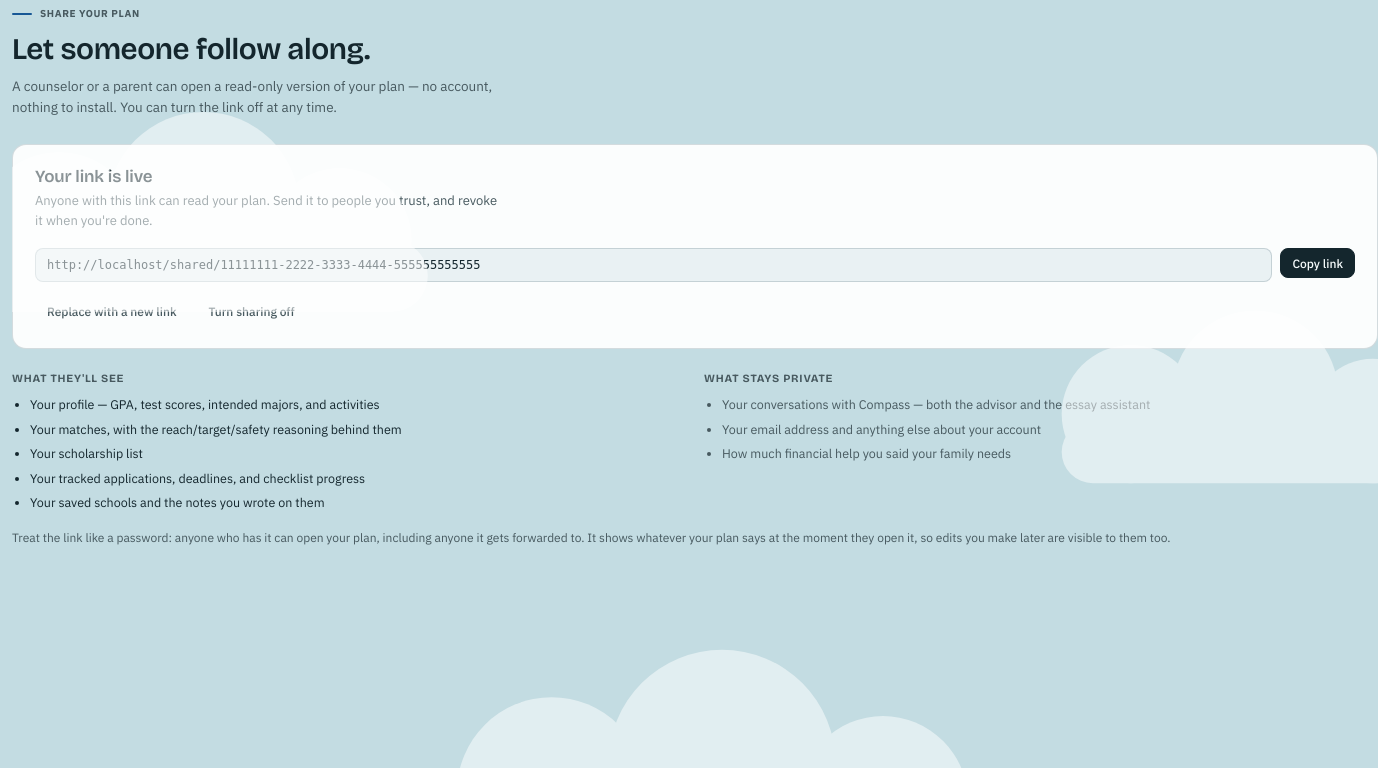
Test: when a link exists › copies to the clipboard and confirms in a live region
What coordinates should you click on to do the following:
click the button "Copy link"
I would click on:
 (1318, 263)
Its box is [1280,248,1355,278].
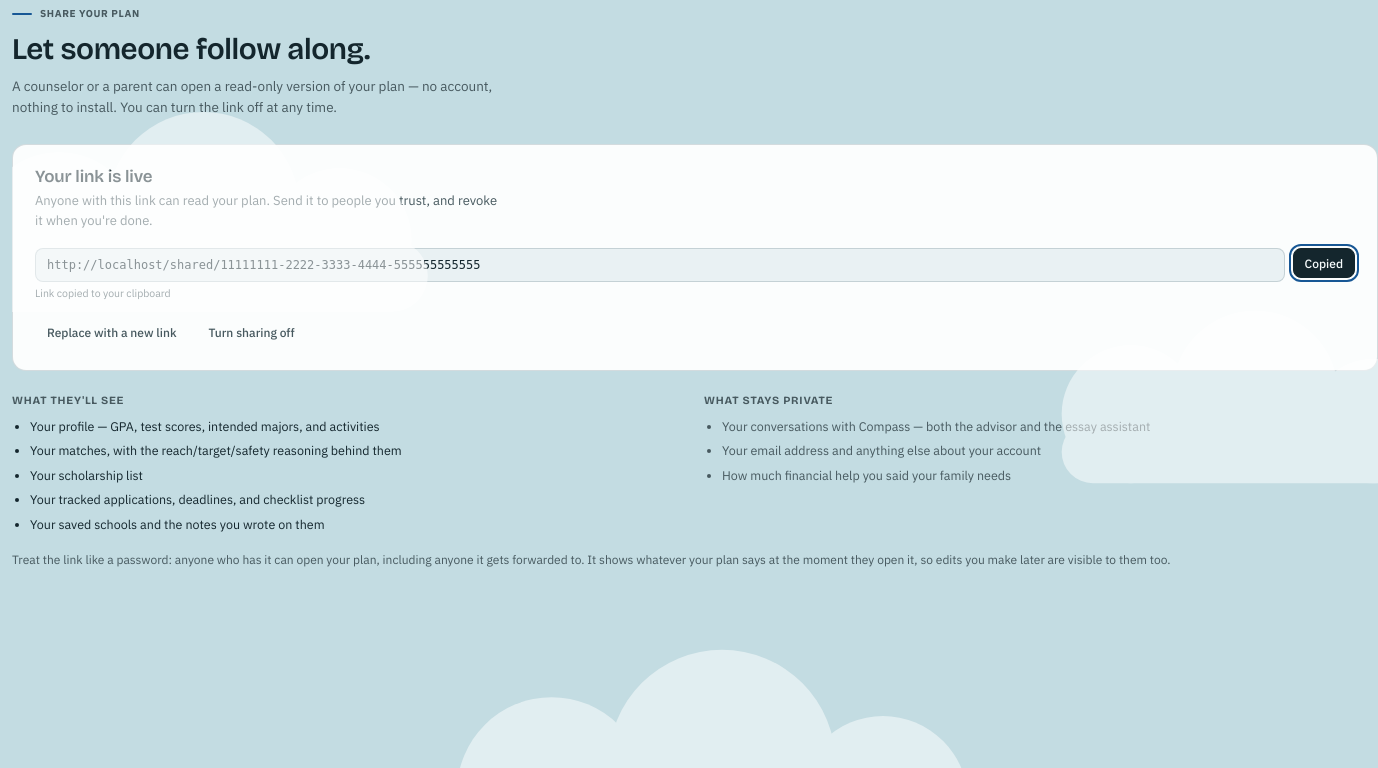
Now the message shows "Link copied", box [35,286,171,300]
